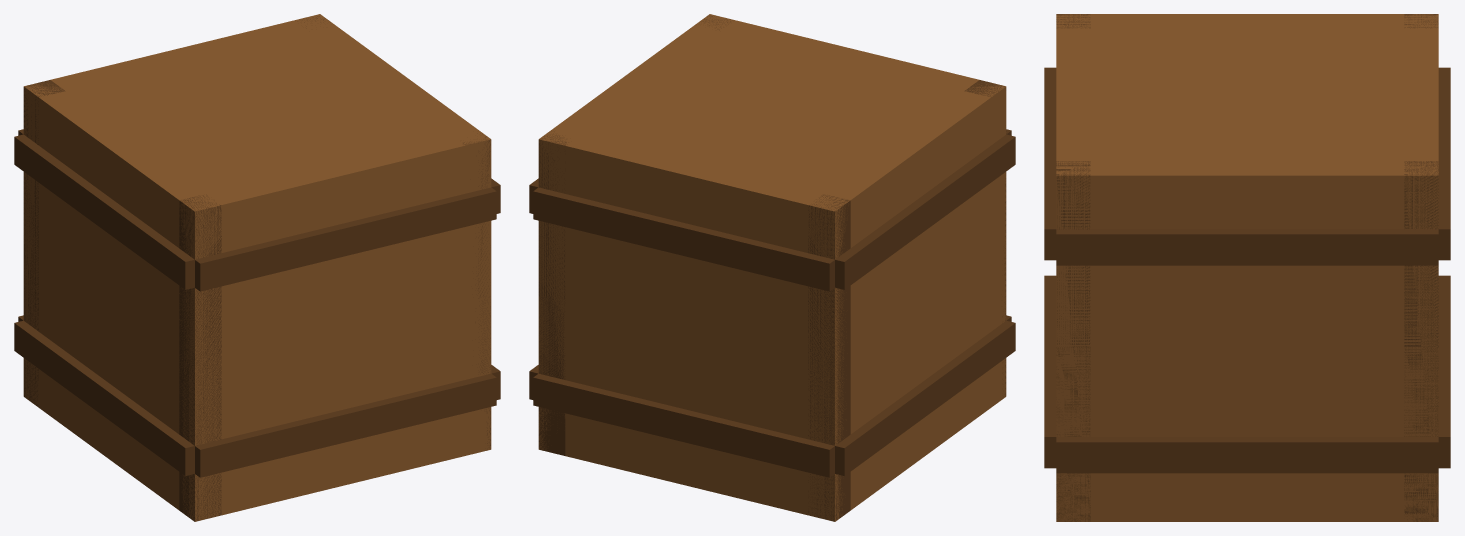
File: crate_01.glb
3 views of the same model, side by side, from view 1: azimuth 30°, elevation 25°; view 2: azimuth 150°, elevation 25°; view 3: azimuth 270°, elevation 25° (orthographic). The views are drawn at different scales.
Parts seen in each view (by area): view 1: crate_01; view 2: crate_01; view 3: crate_01.
Boxes of the visible parts, left/top/right/bottom form: crate_01: left=14, top=14, right=500, bottom=521; crate_01: left=529, top=14, right=1015, bottom=521; crate_01: left=1044, top=14, right=1450, bottom=521.
Bounding box in the file's own units: 0.6775 × 0.6374 × 0.6775.
